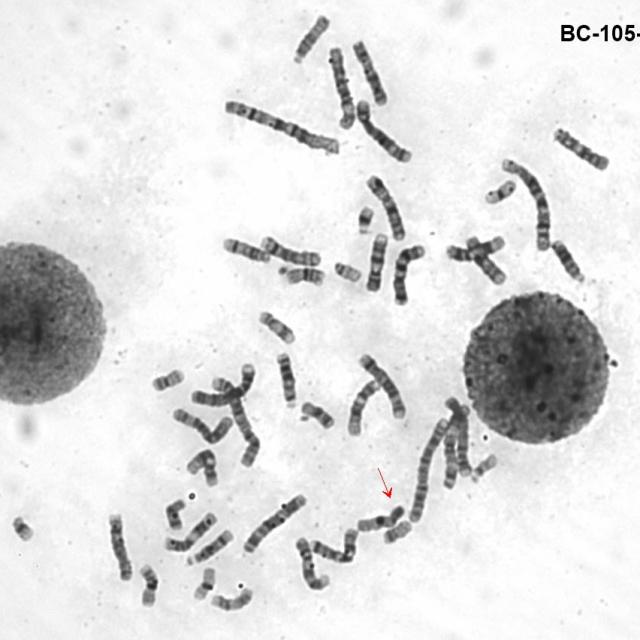A1: (218, 93, 342, 158), (496, 154, 553, 252)
A2: (207, 373, 262, 469), (404, 414, 449, 524)
A3: (238, 489, 309, 555), (437, 396, 472, 491)
B4: (186, 357, 258, 409), (439, 394, 474, 481)
B5: (352, 95, 413, 164), (354, 349, 408, 420)
C10: (548, 122, 612, 173), (461, 231, 508, 287)
C11: (159, 508, 219, 552), (441, 231, 506, 263)
C12: (343, 374, 382, 438), (183, 444, 220, 488)
C6: (323, 41, 357, 131), (168, 403, 235, 446)
C7: (388, 240, 428, 307), (306, 523, 360, 565)
C8: (257, 230, 323, 268), (103, 508, 134, 582)
C9: (291, 532, 332, 592), (361, 229, 390, 293)
D13: (548, 235, 586, 285), (272, 348, 299, 410)
D14: (182, 526, 235, 568), (218, 233, 273, 265)
D15: (288, 10, 332, 66), (353, 502, 409, 534)
E16: (276, 262, 327, 288), (134, 560, 160, 608)
E17: (254, 306, 297, 346), (206, 583, 254, 614)
E18: (296, 397, 336, 431), (161, 494, 188, 532)
F19: (480, 174, 518, 207), (189, 563, 217, 603)
F20: (146, 364, 186, 393), (379, 515, 413, 546)
G21: (7, 510, 36, 543), (353, 202, 376, 236)
G22: (466, 450, 500, 484), (329, 257, 364, 284)
X: (362, 171, 407, 242), (348, 35, 390, 107)
